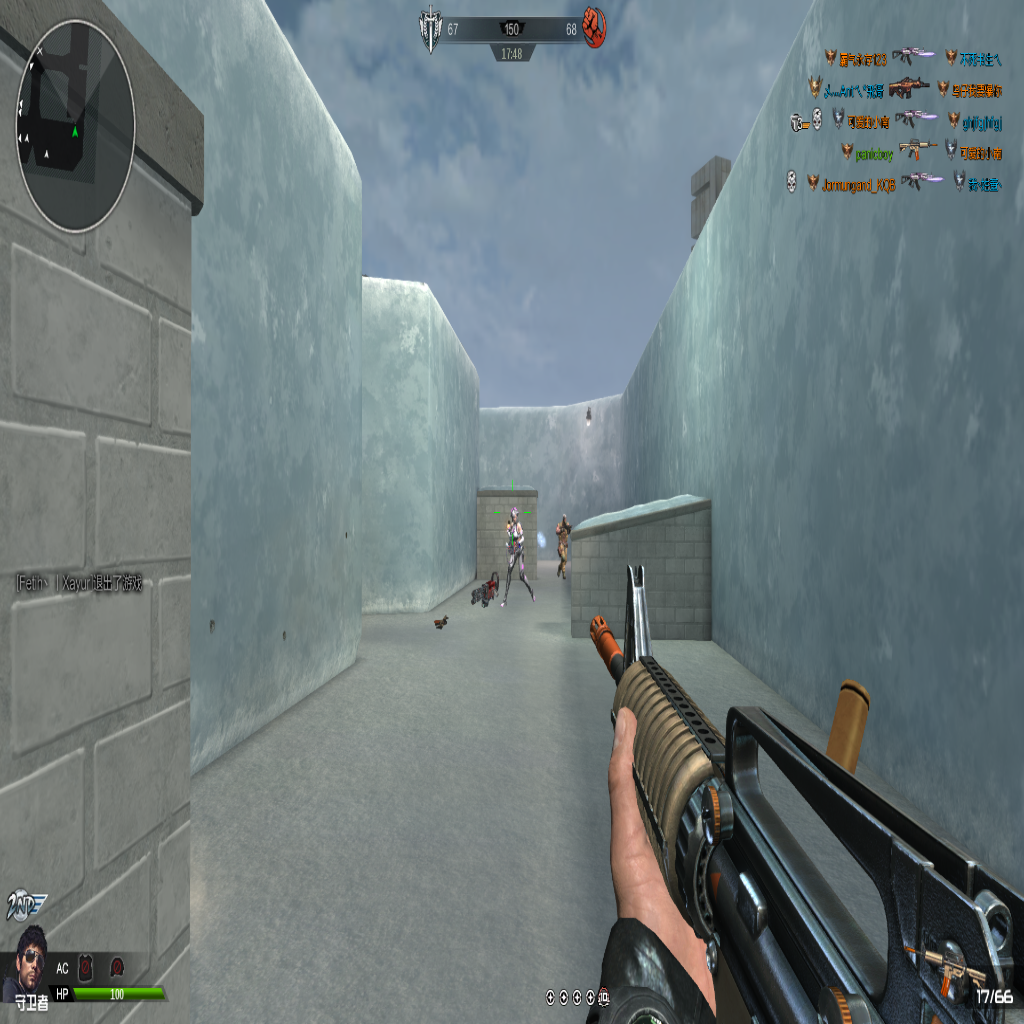tt: (501, 510, 533, 605), (556, 515, 570, 579)
